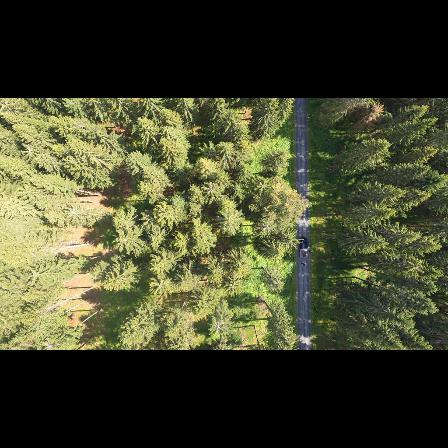Sick: (254, 214, 280, 241), (205, 314, 234, 338), (150, 274, 173, 298), (251, 174, 274, 198), (201, 178, 222, 203)
